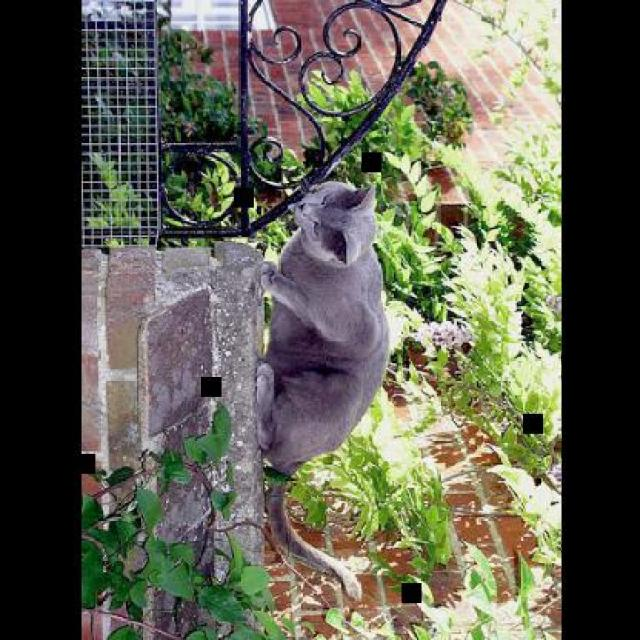unauthorized: (254, 178, 389, 477)
